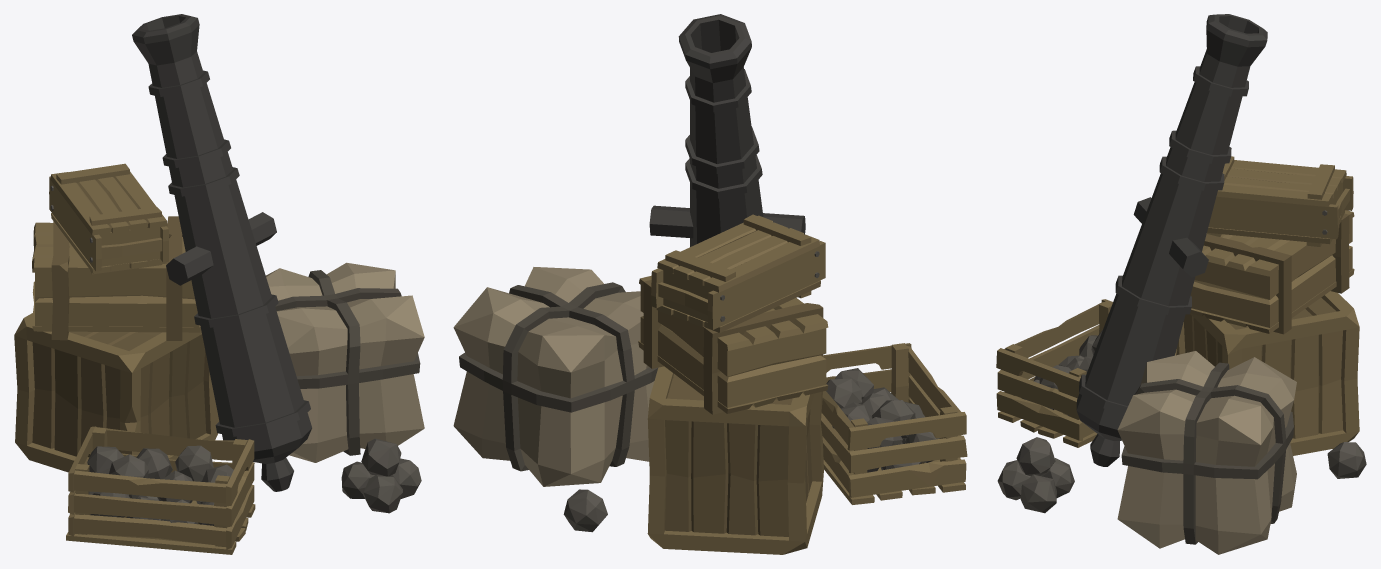
Rendered from Stack_3.fbx.
The picture shows the model from 3 angles, left to right: view 1: azimuth 30°, elevation 25°; view 2: azimuth 150°, elevation 25°; view 3: azimuth 270°, elevation 25°; orthographic projection. The views are drawn at different scales.
Parts seen in each view (by area): view 1: Stack_3; view 2: Stack_3; view 3: Stack_3.
Part boxes in pixels (x1,y1,x2,y2): Stack_3: (14, 14, 424, 554); Stack_3: (453, 14, 967, 554); Stack_3: (996, 14, 1366, 554).
Size of the model in its own units: 211 by 226 by 175.
